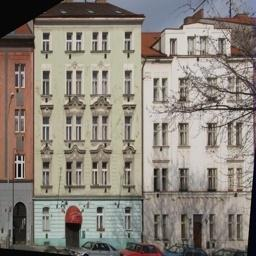building: (31, 0, 144, 254), (144, 16, 256, 251)
